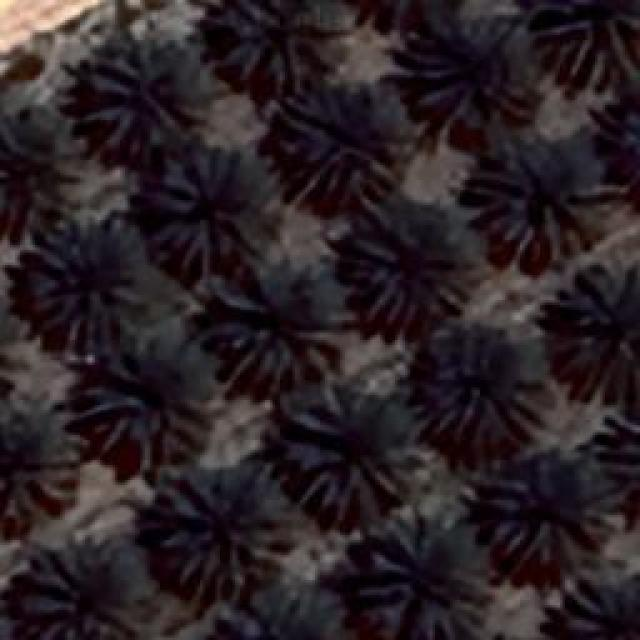PalmTree: (152, 460, 286, 595), (412, 328, 546, 460), (30, 225, 168, 350), (285, 390, 415, 520), (210, 260, 340, 388), (362, 510, 490, 638), (468, 148, 602, 268), (280, 80, 405, 205), (147, 150, 275, 272), (82, 348, 210, 468), (345, 212, 470, 330), (410, 14, 532, 128), (0, 381, 78, 549), (485, 470, 625, 560), (78, 35, 178, 155), (18, 547, 140, 635), (211, 570, 361, 640), (218, 0, 340, 80), (2, 88, 66, 236), (534, 0, 638, 85), (562, 258, 635, 372), (550, 557, 640, 640), (586, 90, 640, 208), (586, 399, 640, 517), (55, 152, 135, 228)
